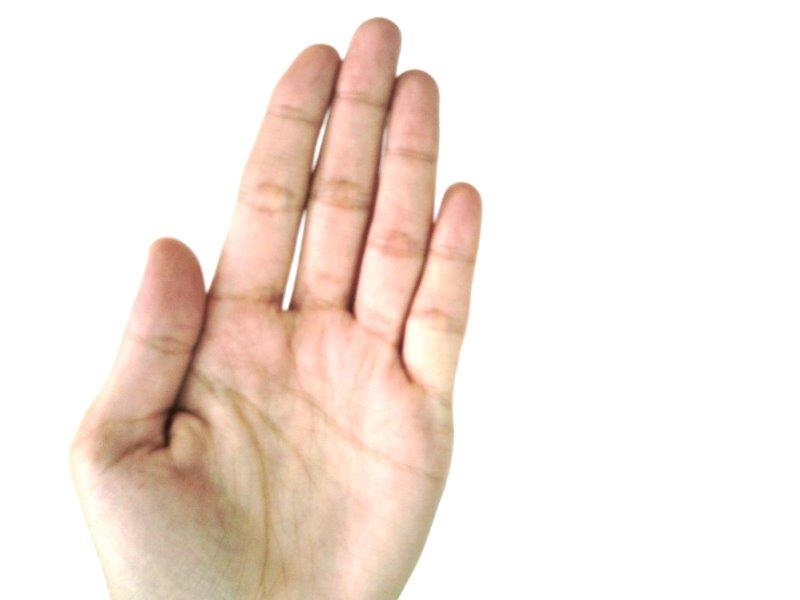hand: (69, 18, 483, 585)
